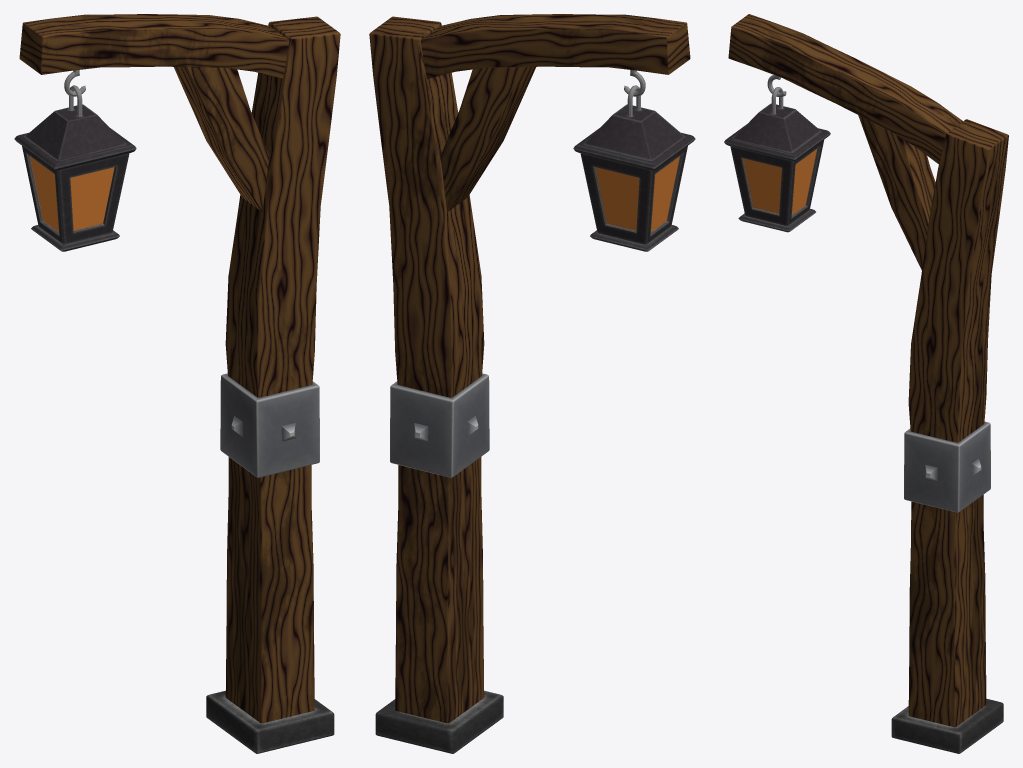
File: lantern.fbx
3 renders of one model, left to right at view 1: azimuth 30°, elevation 25°; view 2: azimuth 150°, elevation 25°; view 3: azimuth 330°, elevation 25°, orthographic. The views are drawn at different scales.
Parts seen in each view (by area): view 1: Street_Light; view 2: Street_Light; view 3: Street_Light.
Boxes of the visible parts, x1,y1,x2,y2 form: Street_Light: [14, 14, 340, 753]; Street_Light: [369, 14, 695, 753]; Street_Light: [724, 14, 1008, 753].
Bounding box in the file's own units: 127 × 307 × 37.55.
Materials: 2 (2 with a texture image).
